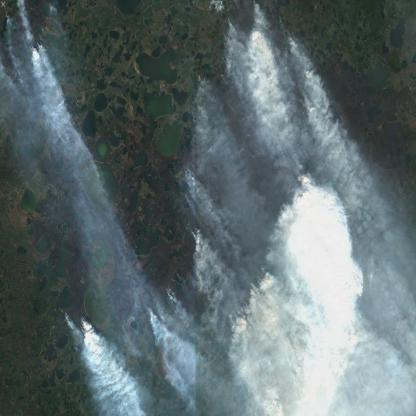fire: (0, 0, 56, 69), (217, 8, 239, 75), (60, 307, 90, 342), (192, 65, 211, 111), (180, 159, 196, 207), (164, 272, 182, 309), (275, 12, 295, 41), (187, 221, 201, 261), (144, 292, 160, 320), (250, 0, 262, 14)
